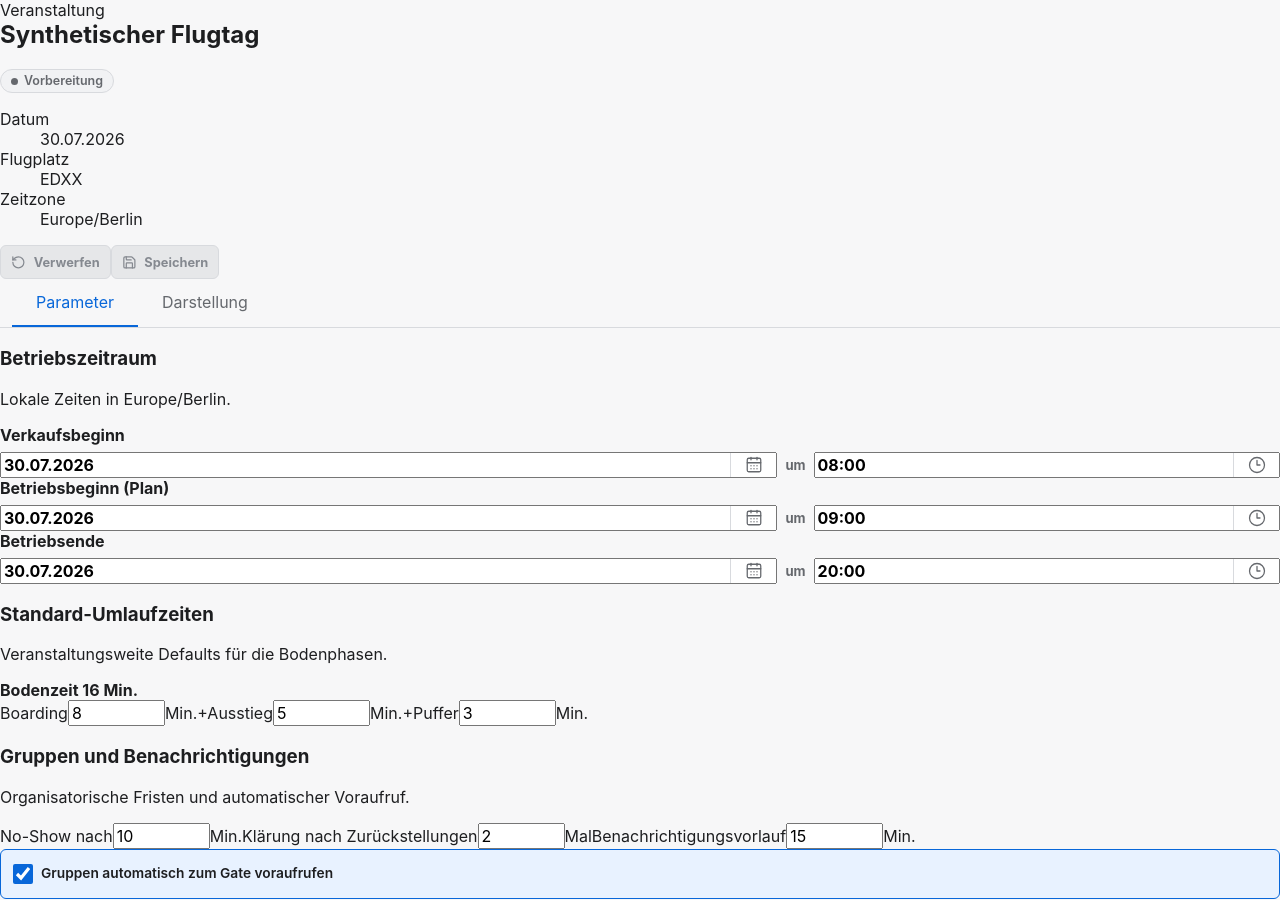
Test case: event parameters workspace › requires confirmation before discarding local values
Replace the text in the number field labelled "Puffer" with "6" at (507, 713), box [459, 700, 556, 726]
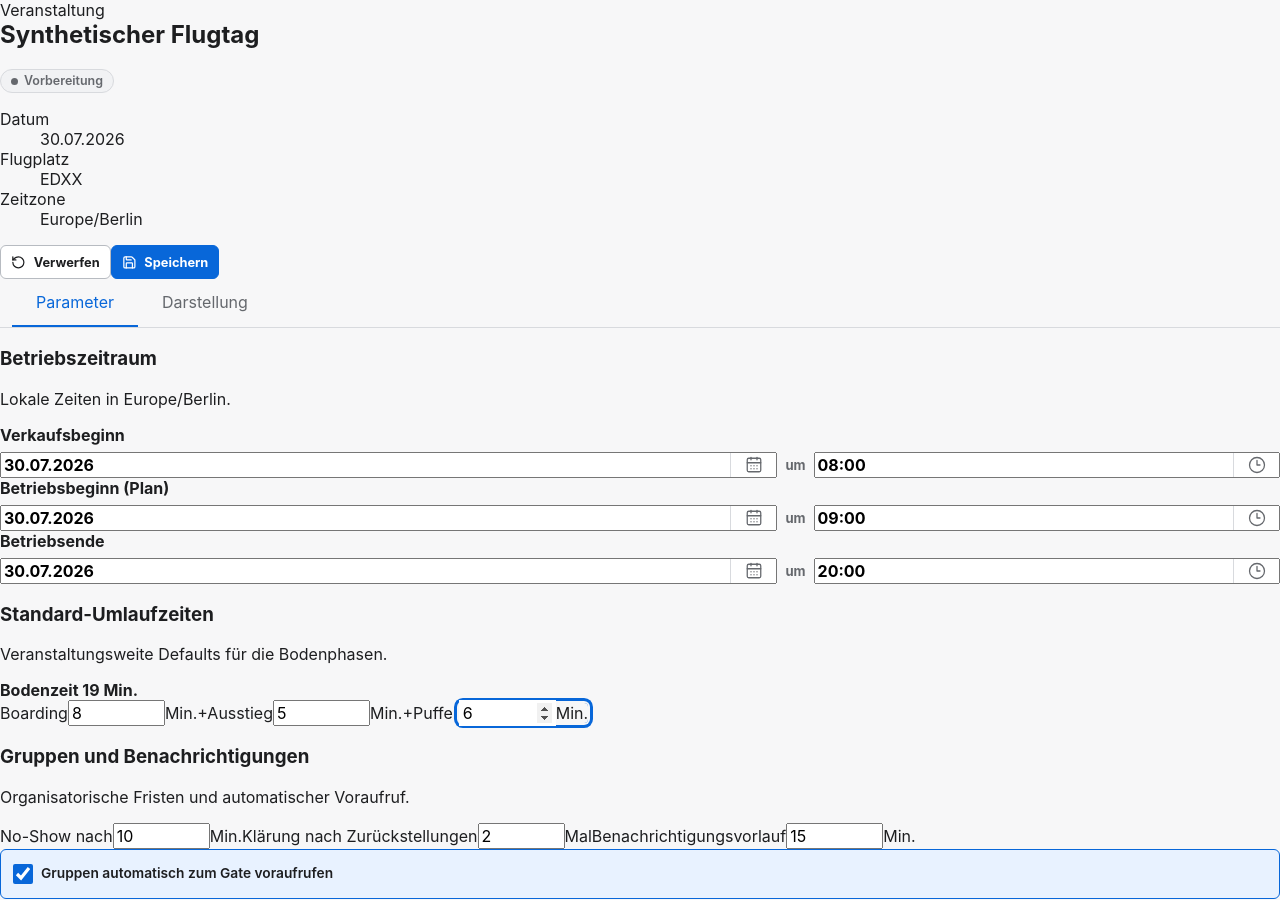
Click the button "Verwerfen" at (55, 262), box [0, 245, 111, 279]
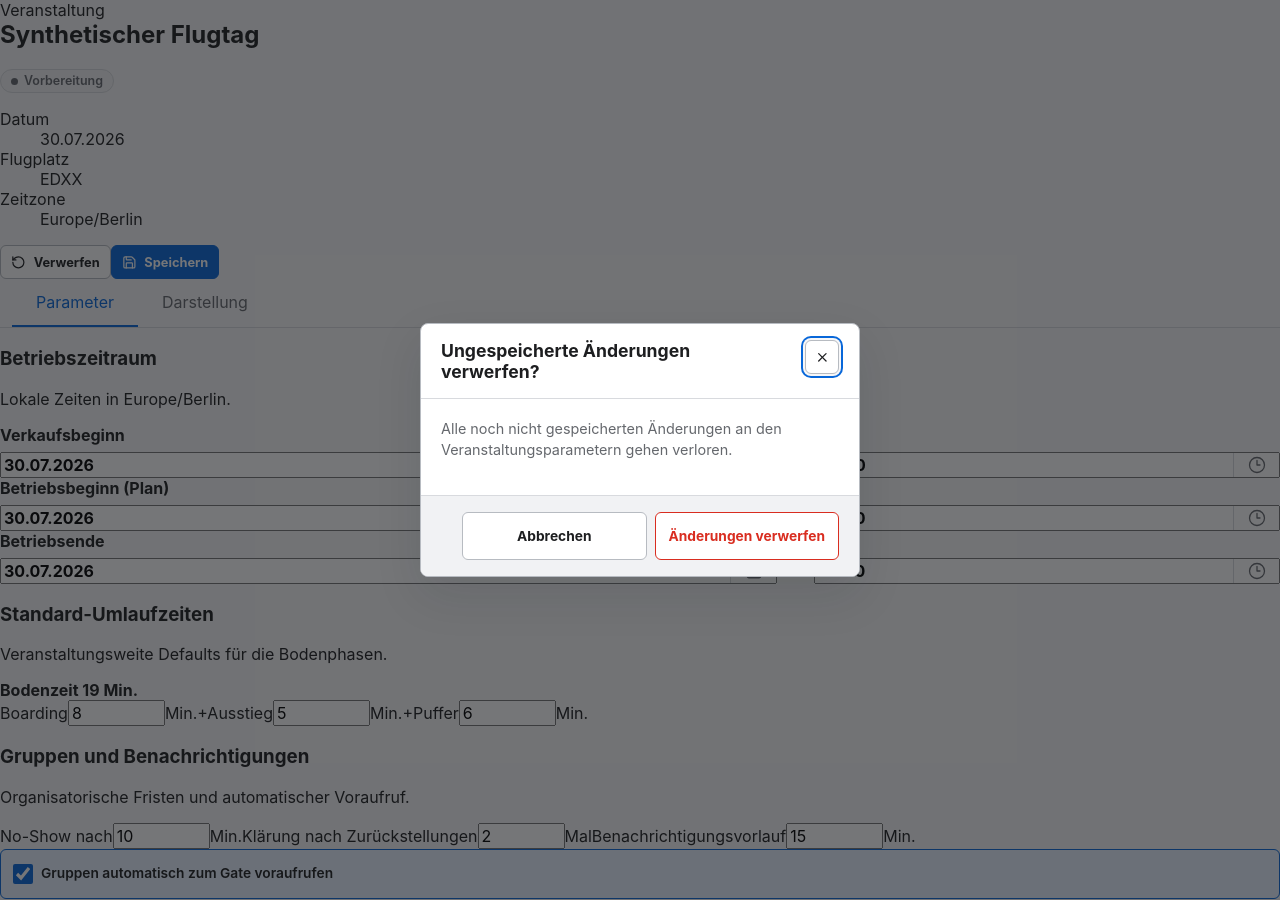
Check: the dialog "Ungespeicherte Änderungen verwerfen?" is shown, box [420, 323, 860, 577]
Click the button "Änderungen verwerfen" at (747, 536), box [654, 512, 839, 560]
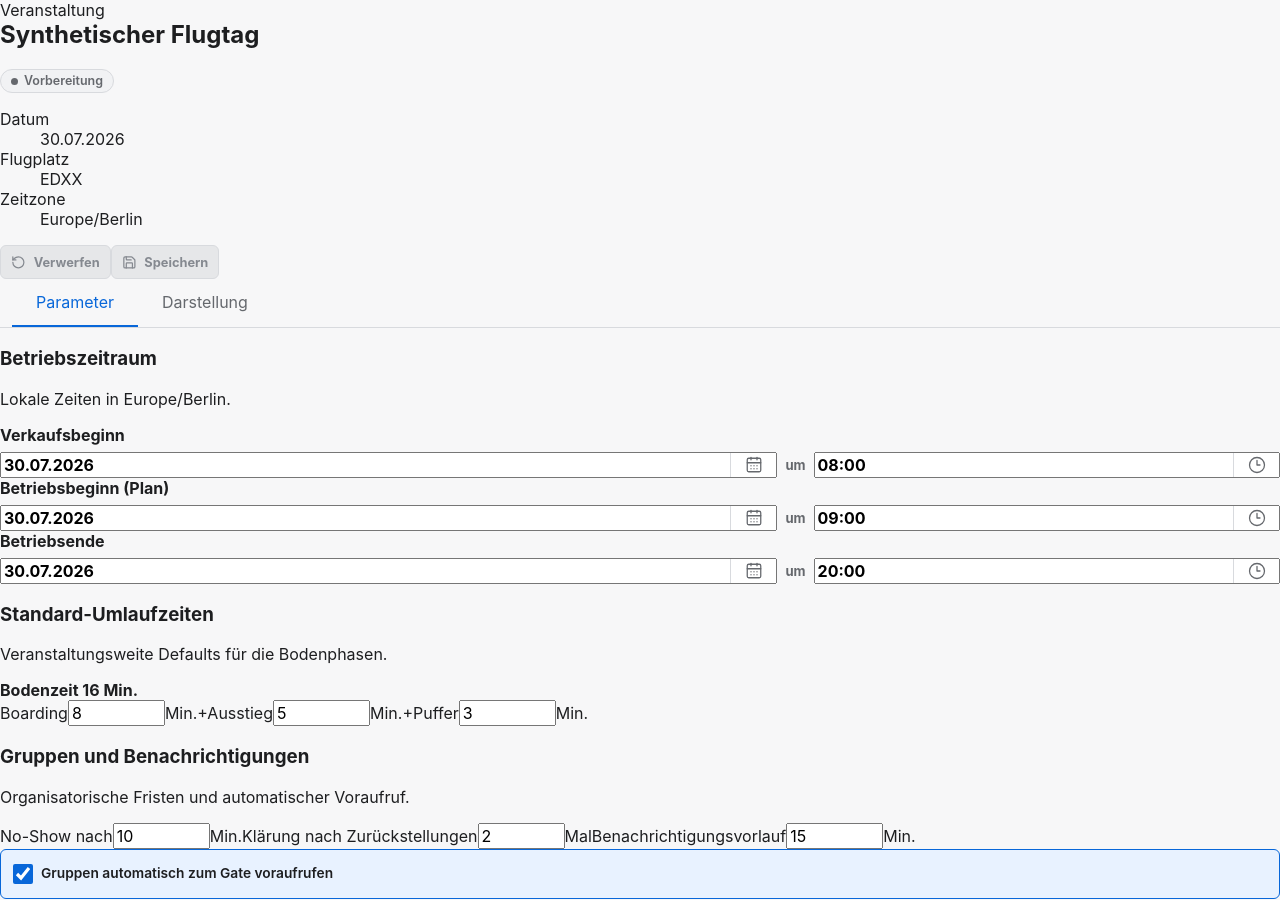
Check: the number field labelled "Puffer" holds "3", box [459, 700, 556, 726]
